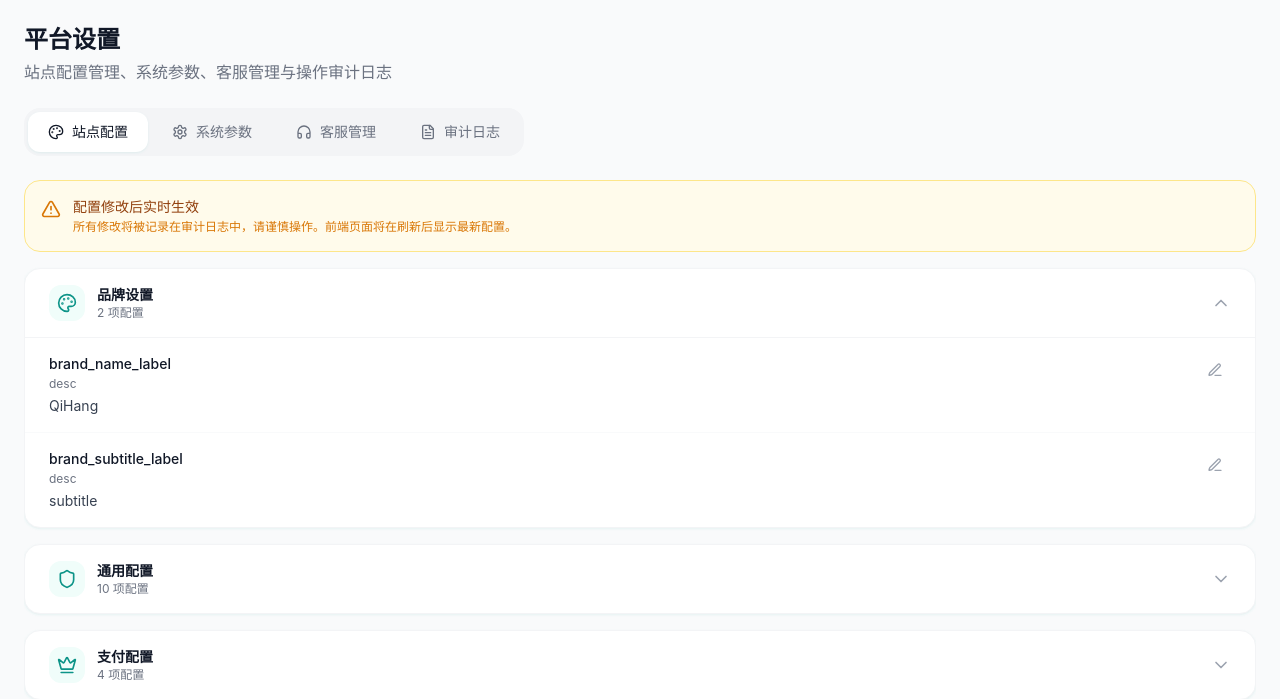
Test: AdminSettings - Completion Features › Section Toggles › renders section toggles area in system tab
What coordinates should you click on to do the following:
click the button "系统参数"
I would click on:
 (212, 132)
Its box is 152,112 -> 272,152.
(page scrolled)
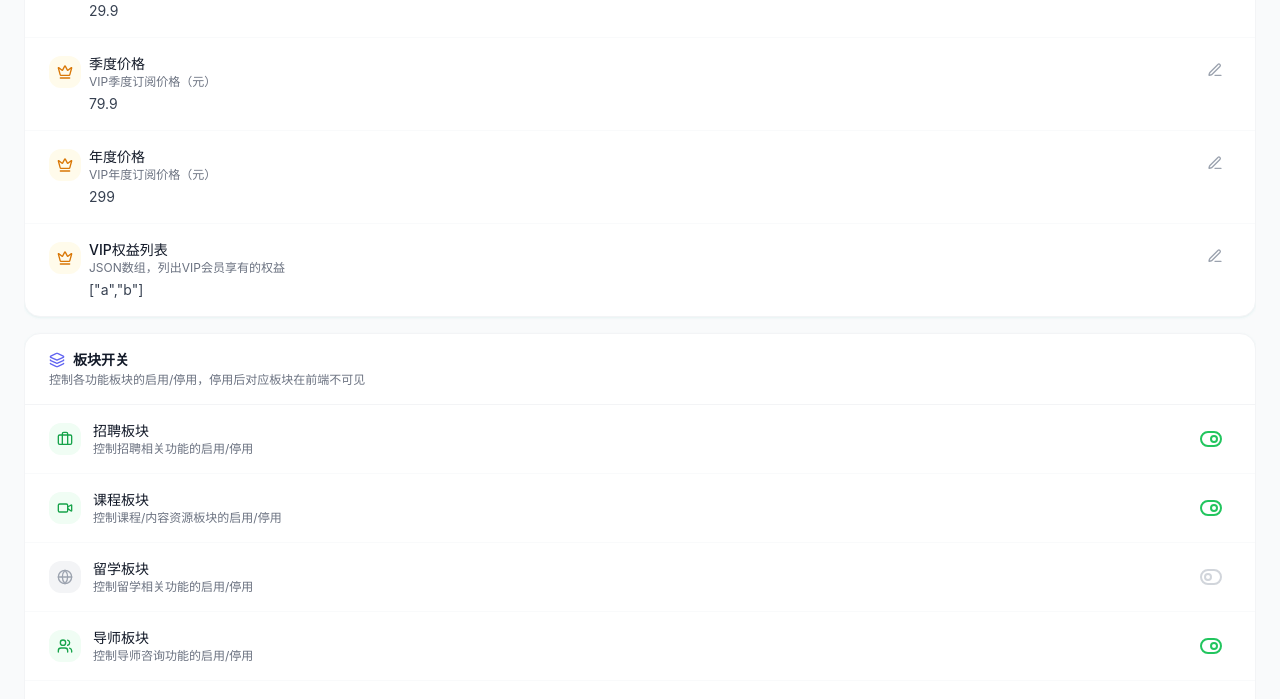
Result: the heading "板块开关" is shown at 73,350 -> 129,370
